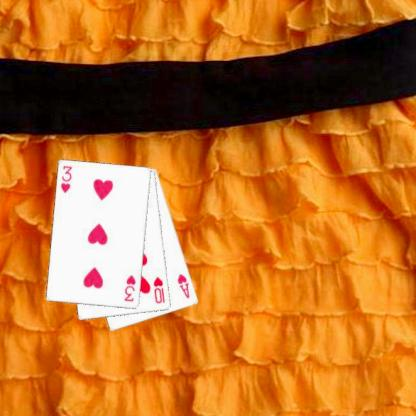10H: (151, 274, 166, 305)
3H: (121, 272, 137, 303), (58, 164, 74, 194)
AH: (175, 271, 191, 300)
